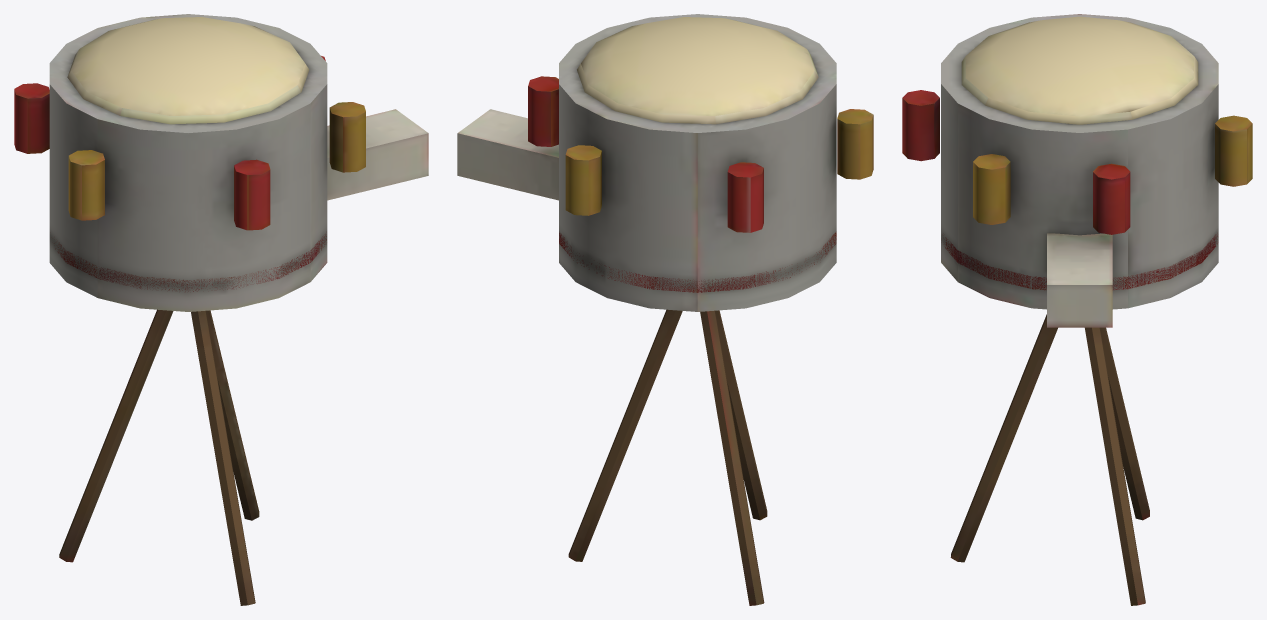
Rendered from jhalmuri_stand.glb.
3 renders of one model, left to right at view 1: azimuth 30°, elevation 25°; view 2: azimuth 150°, elevation 25°; view 3: azimuth 270°, elevation 25°, orthographic.
Parts seen in each view (by area): view 1: body; view 2: body; view 3: body.
Boxes of the visible parts, x1,y1,x2,y2 form: body: [14, 14, 428, 605]; body: [457, 14, 873, 605]; body: [902, 14, 1252, 605].
Bounding box in the file's own units: 0.9084 × 1.22 × 0.7455.
Materials: 1 (1 with a texture image).
